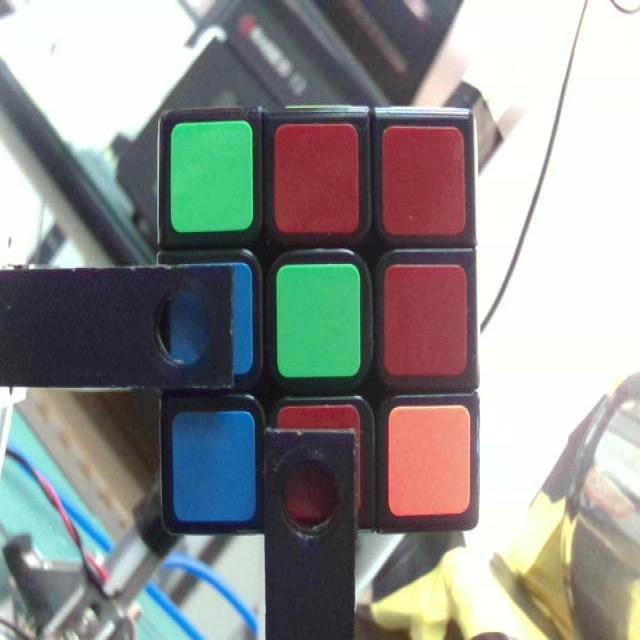b: (176, 271, 254, 376), (176, 415, 254, 513)
g: (277, 269, 359, 375), (176, 129, 252, 228)
o: (275, 122, 356, 234), (386, 269, 466, 375), (391, 408, 469, 512), (385, 132, 462, 233), (283, 408, 357, 509)
